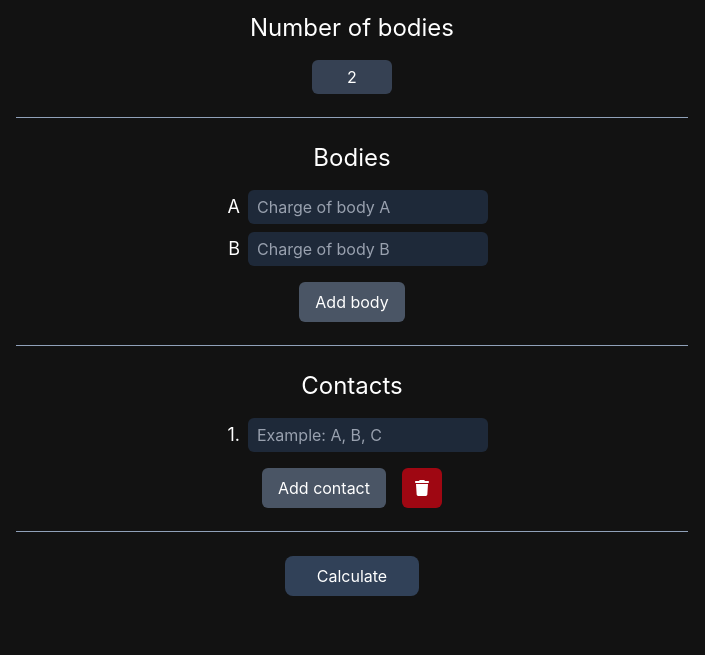
Calculator › only allows removing bodies above the minimum and keeps focus in the list
Click the button "Add body": (352, 302) [299, 282, 405, 322]
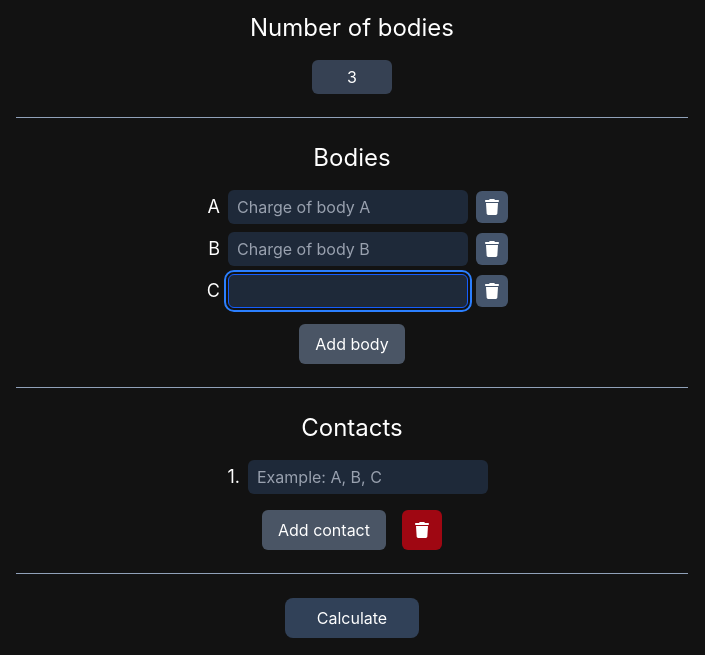
Click the button named "Remove body C": (492, 291) [476, 275, 508, 307]
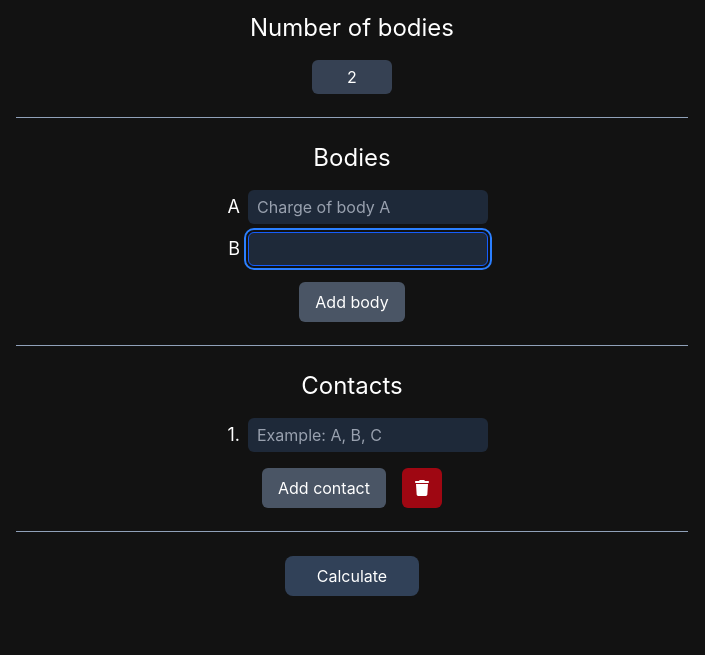
expect the field labelled "Charge of body C" is gone: met
